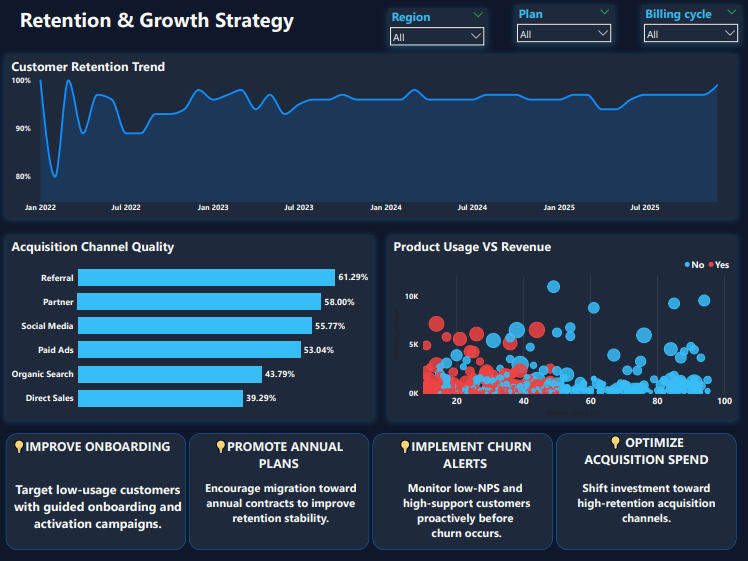

The dashboard page shown, as its layout file describes it:
{"tool":"powerbi","page":{"name":"Retention & Strategy","canvas":[1600,1200],"ordinal":3},"visuals":[{"type":"textbox","box":[46.1,12.8,853.6,64.1],"z":0},{"type":"slicer","fields":{"Values":["subscriptions.region"]},"box":[832,20.1,209.7,80.3],"z":1000},{"type":"slicer","fields":{"Values":["subscriptions.plan"]},"box":[1102.8,13.4,210,80.3],"z":2000},{"type":"slicer","fields":{"Values":["subscriptions.billing_cycle"]},"box":[1374,13.4,209.7,80.3],"z":3000},{"type":"clusteredBarChart","title":"Acquisition Channel Quality","fields":{"Category":["subscriptions.acquisition_channel"],"Y":["subscriptions.Churn Rate"]},"box":[15.6,504.1,785.1,392.6],"z":8000},{"type":"shape","box":[15.6,925.7,385,249.8],"z":9000},{"type":"textbox","box":[31.2,934.6,350.2,71.4],"z":10000},{"type":"textbox","box":[24.5,1026,377,169.5],"z":11000},{"type":"lineChart","title":"Customer Retention Trend","fields":{"Category":["monthly_revenue.Month Date.Variation.Date Hierarchy.Year","monthly_revenue.Month Date.Variation.Date Hierarchy.Month"],"Y":["monthly_revenue.Monthly Retention Rate"]},"box":[15.6,118.2,1561.3,348],"z":11001},{"type":"shape","box":[407.4,925.7,385,249.8],"z":11002},{"type":"shape","box":[799.3,925.7,385,249.8],"z":11003},{"type":"shape","box":[1191.1,925.7,385,249.8],"z":11004},{"type":"textbox","box":[428.3,934.6,341.3,91.4],"z":11005},{"type":"textbox","box":[437.2,1026,332.3,127.1],"z":11006},{"type":"textbox","box":[832,934.6,330.1,84.8],"z":11007},{"type":"textbox","box":[832,1026,330.1,151.7],"z":11008},{"type":"textbox","box":[1226.8,925.7,314.5,93.7],"z":11009},{"type":"textbox","box":[1226.8,1026,314.5,127.1],"z":11010},{"type":"scatterChart","title":"Product Usage VS Revenue","fields":{"Series":["subscriptions.churned"],"Size":["Sum(subscriptions.seats)"],"X":["subscriptions.feature_usage_pct"],"Y":["subscriptions.monthly_revenue"]},"box":[832,504.1,745,392.6],"z":11011}]}

Visuals, with their boxes in screenshot pixels (x1, y1, x2, y2), scaled from the page's 1600x1200 canvas onto the 748x561 screenshot:
textbox: <bbox>22, 6, 421, 36</bbox>
slicer - subscriptions.region: <bbox>389, 9, 487, 47</bbox>
slicer - subscriptions.plan: <bbox>516, 6, 614, 44</bbox>
slicer - subscriptions.billing_cycle: <bbox>642, 6, 740, 44</bbox>
"Acquisition Channel Quality" clusteredBarChart: <bbox>7, 236, 374, 419</bbox>
shape: <bbox>7, 433, 187, 550</bbox>
textbox: <bbox>15, 437, 178, 470</bbox>
textbox: <bbox>11, 480, 188, 559</bbox>
"Customer Retention Trend" lineChart: <bbox>7, 55, 737, 218</bbox>
shape: <bbox>190, 433, 370, 550</bbox>
shape: <bbox>374, 433, 554, 550</bbox>
shape: <bbox>557, 433, 737, 550</bbox>
textbox: <bbox>200, 437, 360, 480</bbox>
textbox: <bbox>204, 480, 360, 539</bbox>
textbox: <bbox>389, 437, 543, 477</bbox>
textbox: <bbox>389, 480, 543, 551</bbox>
textbox: <bbox>574, 433, 721, 477</bbox>
textbox: <bbox>574, 480, 721, 539</bbox>
"Product Usage VS Revenue" scatterChart: <bbox>389, 236, 737, 419</bbox>
